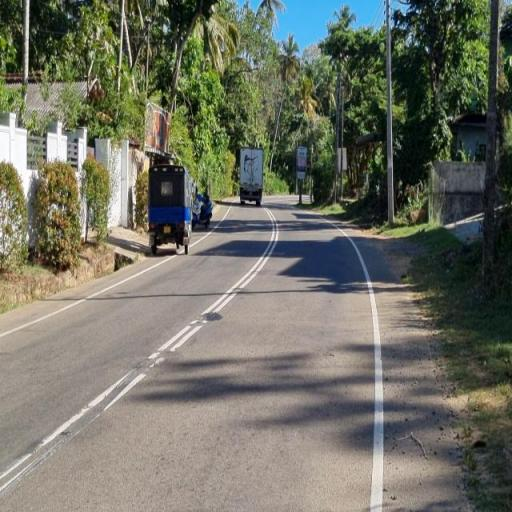double_white_line: (144, 204, 278, 366)
